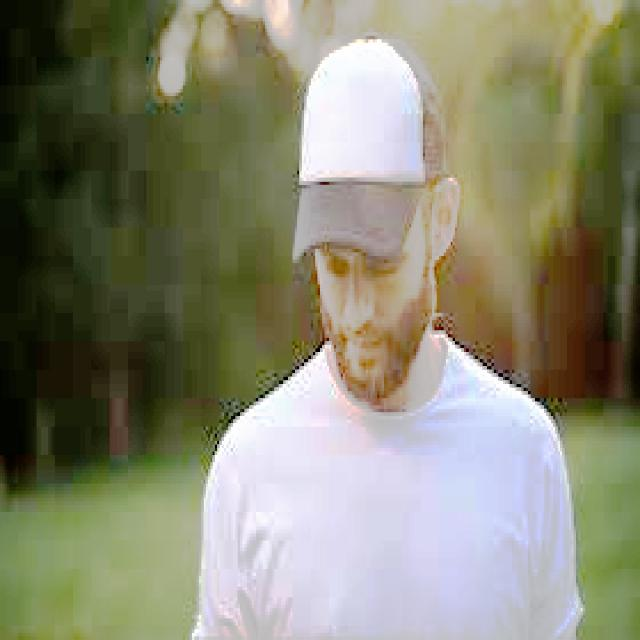TOPI: (284, 21, 452, 252)
